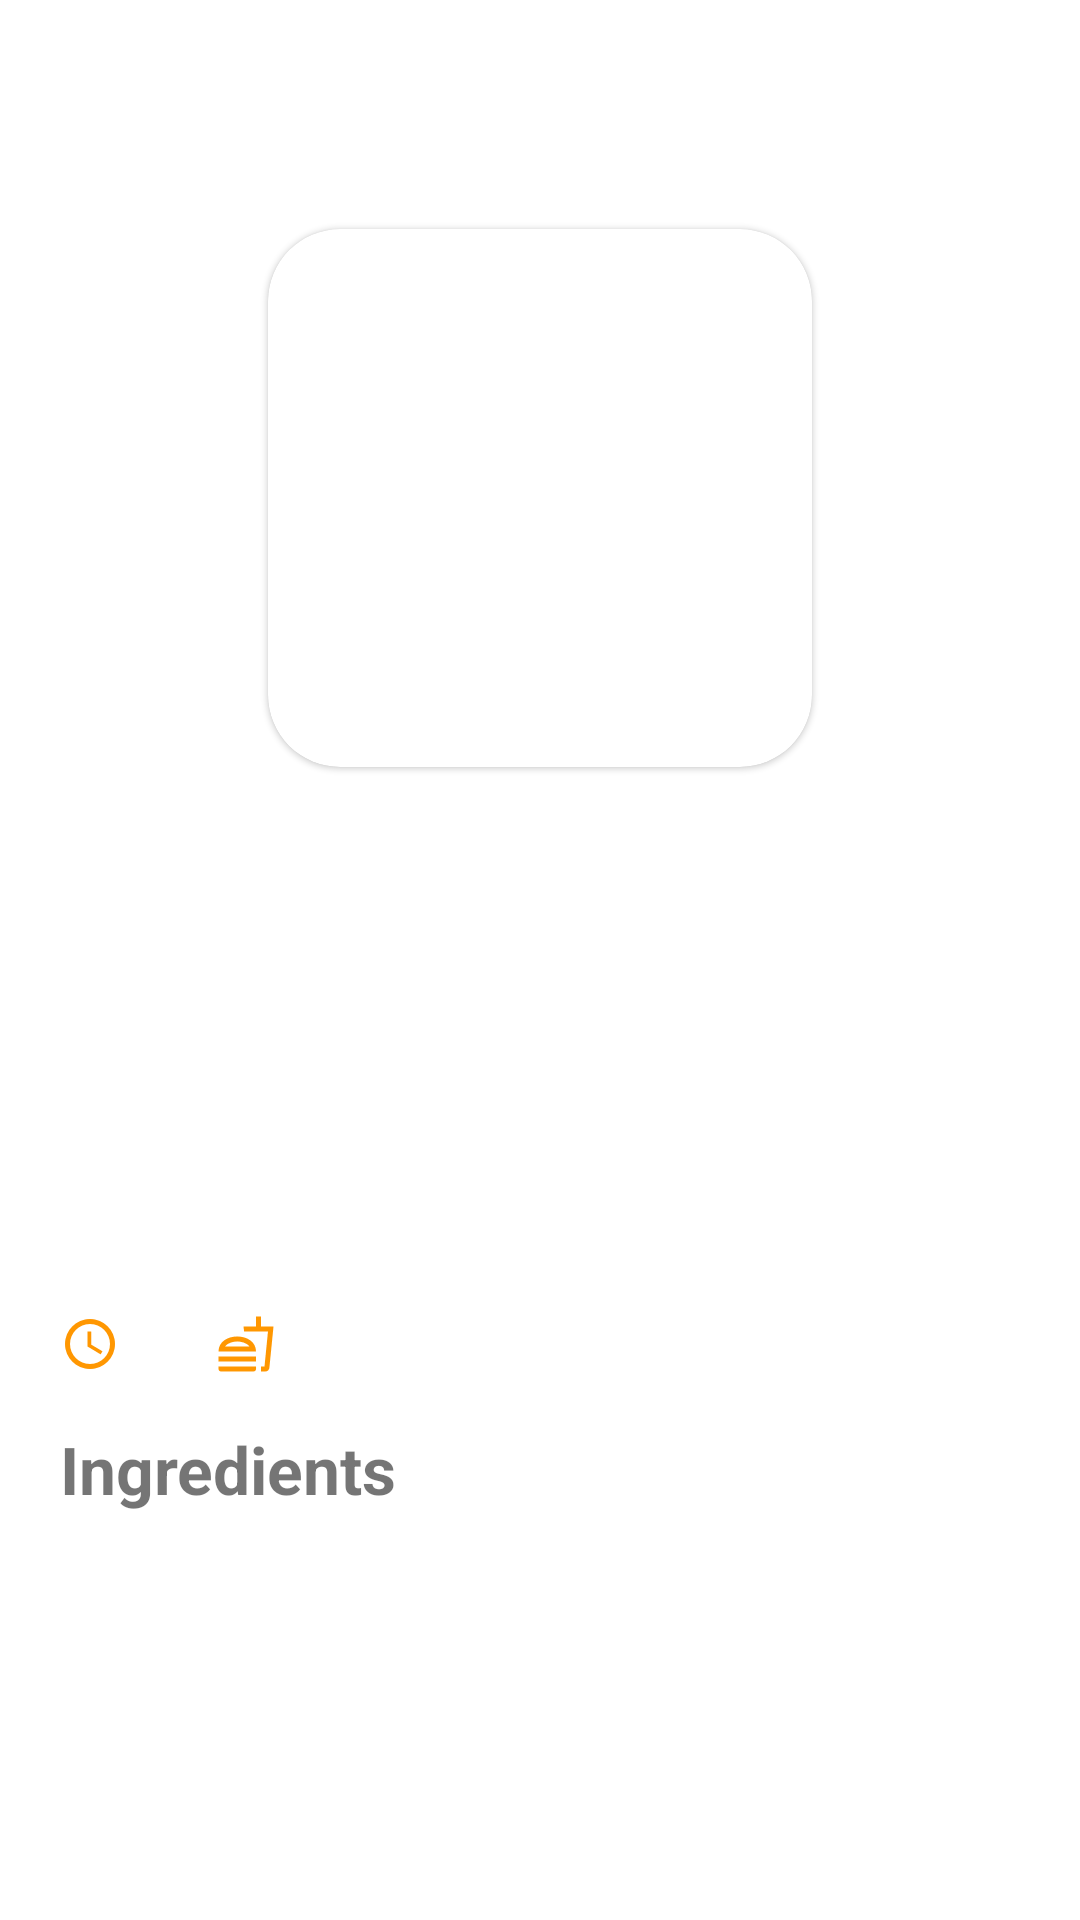

Screen size 1080px×1920px. Icon name, then its box in pixels as (x1, y1, x2, y2):
calories: (218, 1316, 274, 1372)
time: (65, 1319, 115, 1369)
